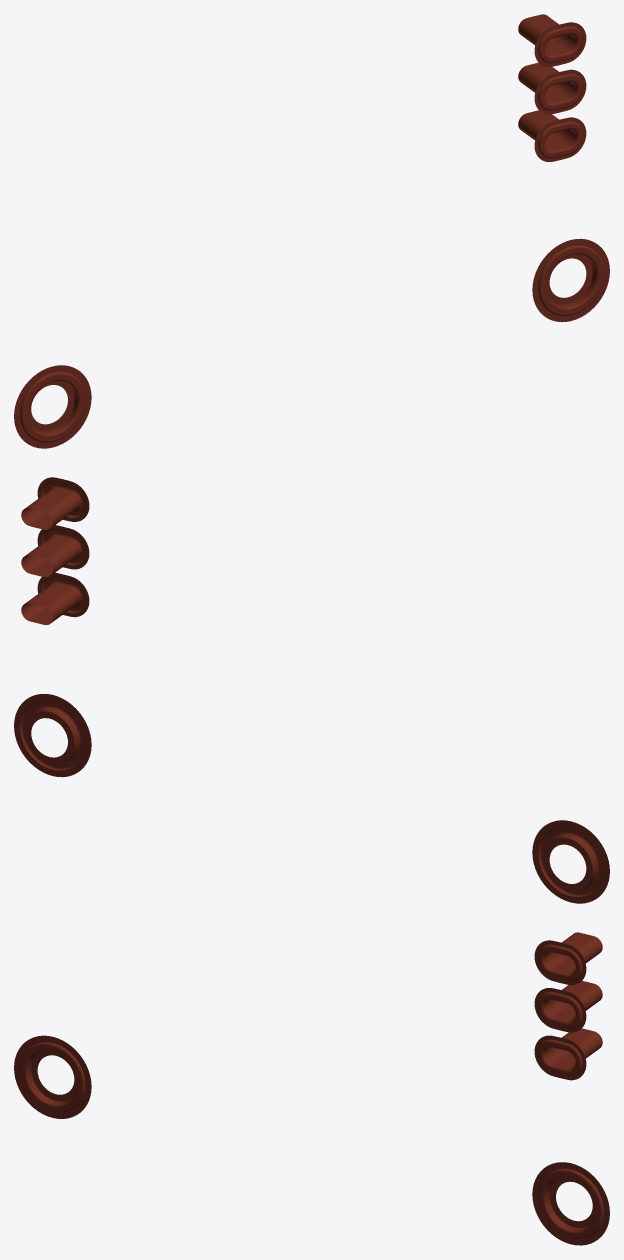
The model's file is SM_ButtonFrame.fbx.
The picture shows the model from 3 angles, top to bottom: view 1: azimuth 30°, elevation 25°; view 2: azimuth 150°, elevation 25°; view 3: azimuth 330°, elevation 25°; orthographic projection.
Visible parts, largest first — view 1: SM_ButtonFrame; view 2: SM_ButtonFrame; view 3: SM_ButtonFrame.
Part boxes in pixels (x1,y1,x2,y2): SM_ButtonFrame: (14, 14, 609, 448); SM_ButtonFrame: (14, 477, 609, 903); SM_ButtonFrame: (14, 932, 609, 1245).
Size of the model in its own units: 24.72 by 11.86 by 2.
